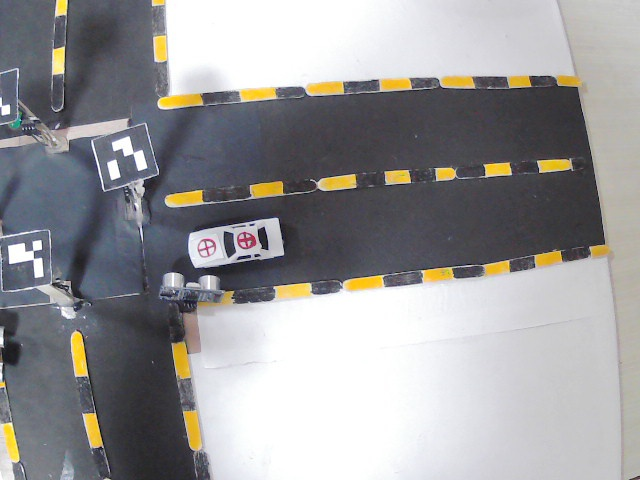aruco_marker: (93, 124, 163, 187), (0, 230, 55, 291), (0, 67, 18, 124)
emergency_vehicle: (185, 214, 288, 270)
traffic_light: (11, 103, 45, 138)
uno_breadboard: (159, 273, 225, 306)
